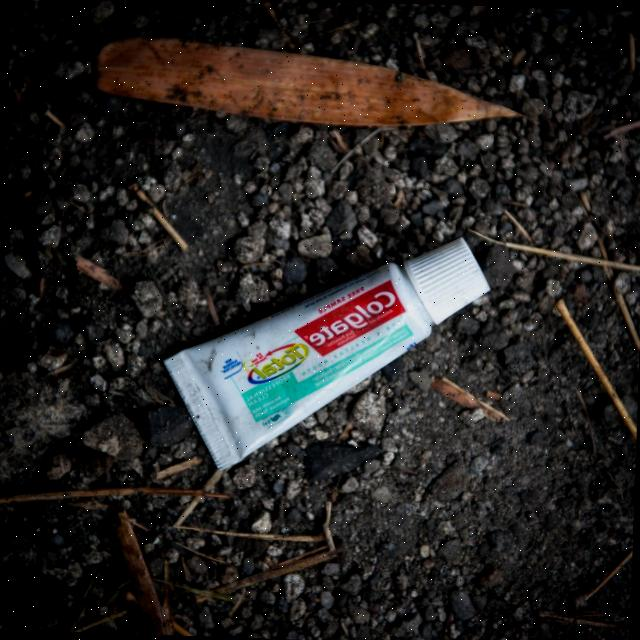Toothpaste: (158, 225, 494, 481)
